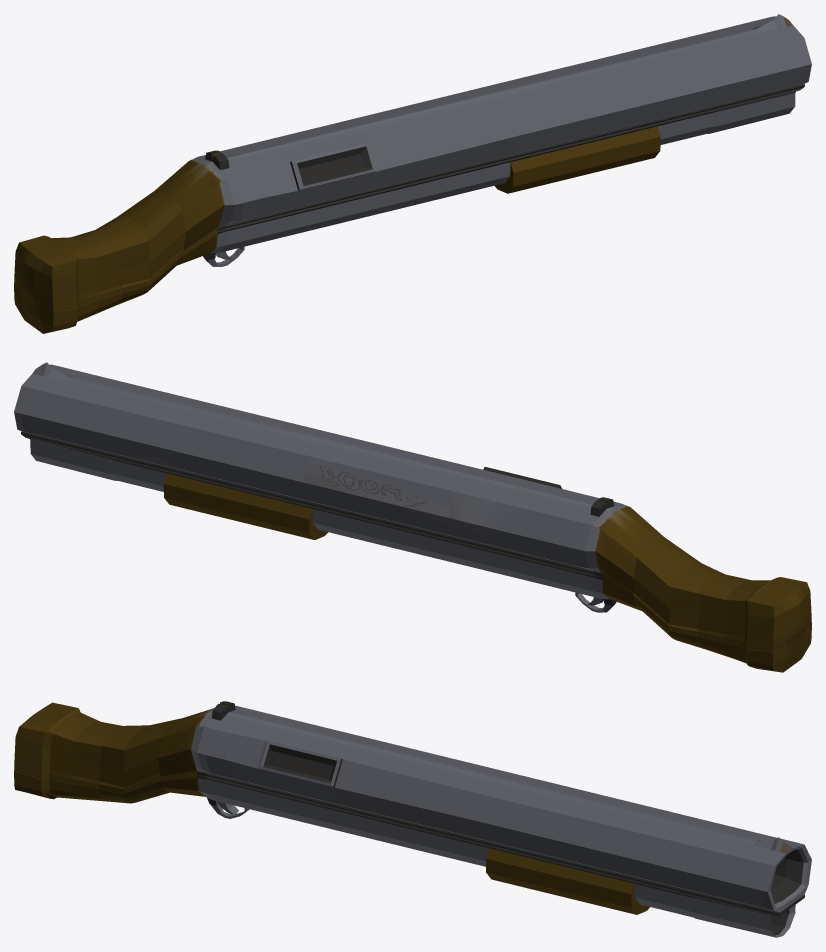
The model's file is shotgun.fbx.
3 views of the same model, one above another, from view 1: azimuth 30°, elevation 25°; view 2: azimuth 150°, elevation 25°; view 3: azimuth 330°, elevation 25° (orthographic).
Visible parts, largest first — view 1: Cube; view 2: Cube; view 3: Cube.
Boxes of the visible parts, box(x1,y1,x2,y2) form: Cube: box(14, 14, 811, 333); Cube: box(14, 362, 811, 672); Cube: box(14, 701, 811, 937).
Bounding box in the file's own units: 261 × 42.28 × 27.39.
Materials: 1 (1 with a texture image).
